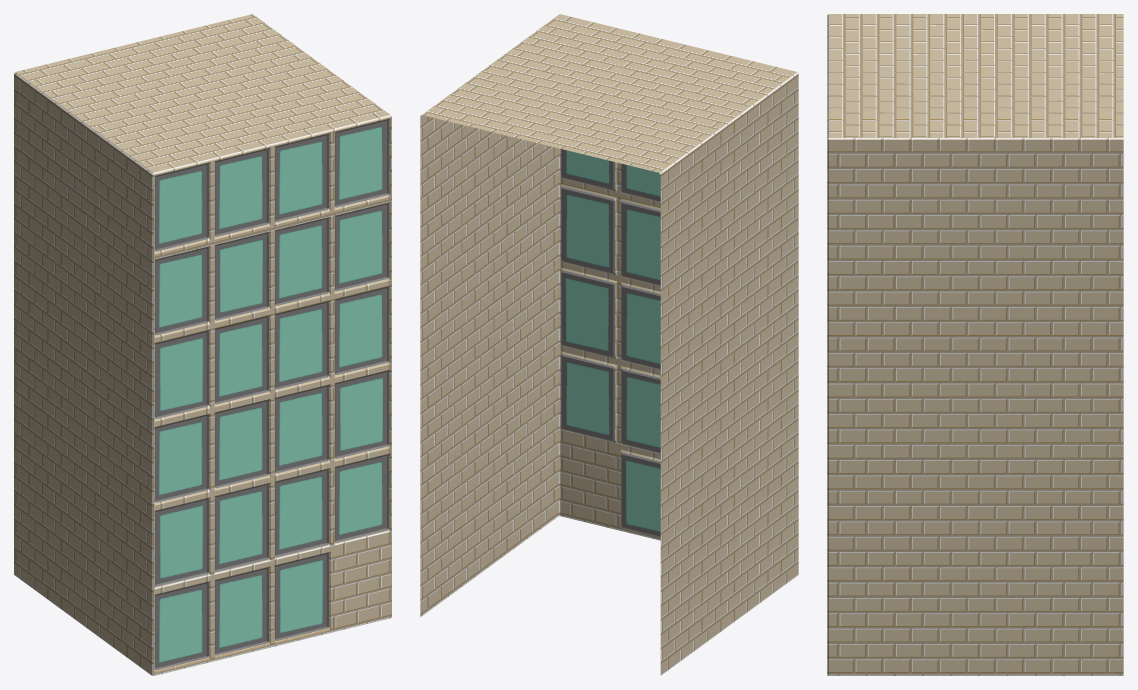
File: Building2.fbx
The picture shows the model from 3 angles, left to right: view 1: azimuth 30°, elevation 25°; view 2: azimuth 150°, elevation 25°; view 3: azimuth 270°, elevation 25°; orthographic projection. The views are drawn at different scales.
Parts seen in each view (by area): view 1: Building2; view 2: Building2; view 3: Building2.
Part boxes in pixels (x1,y1,x2,y2): Building2: (14,14,391,675); Building2: (420,14,798,675); Building2: (827,14,1123,675).
Bounding box in the file's own units: 1000 × 2000 × 1000.
Materials: 1 (1 with a texture image).
